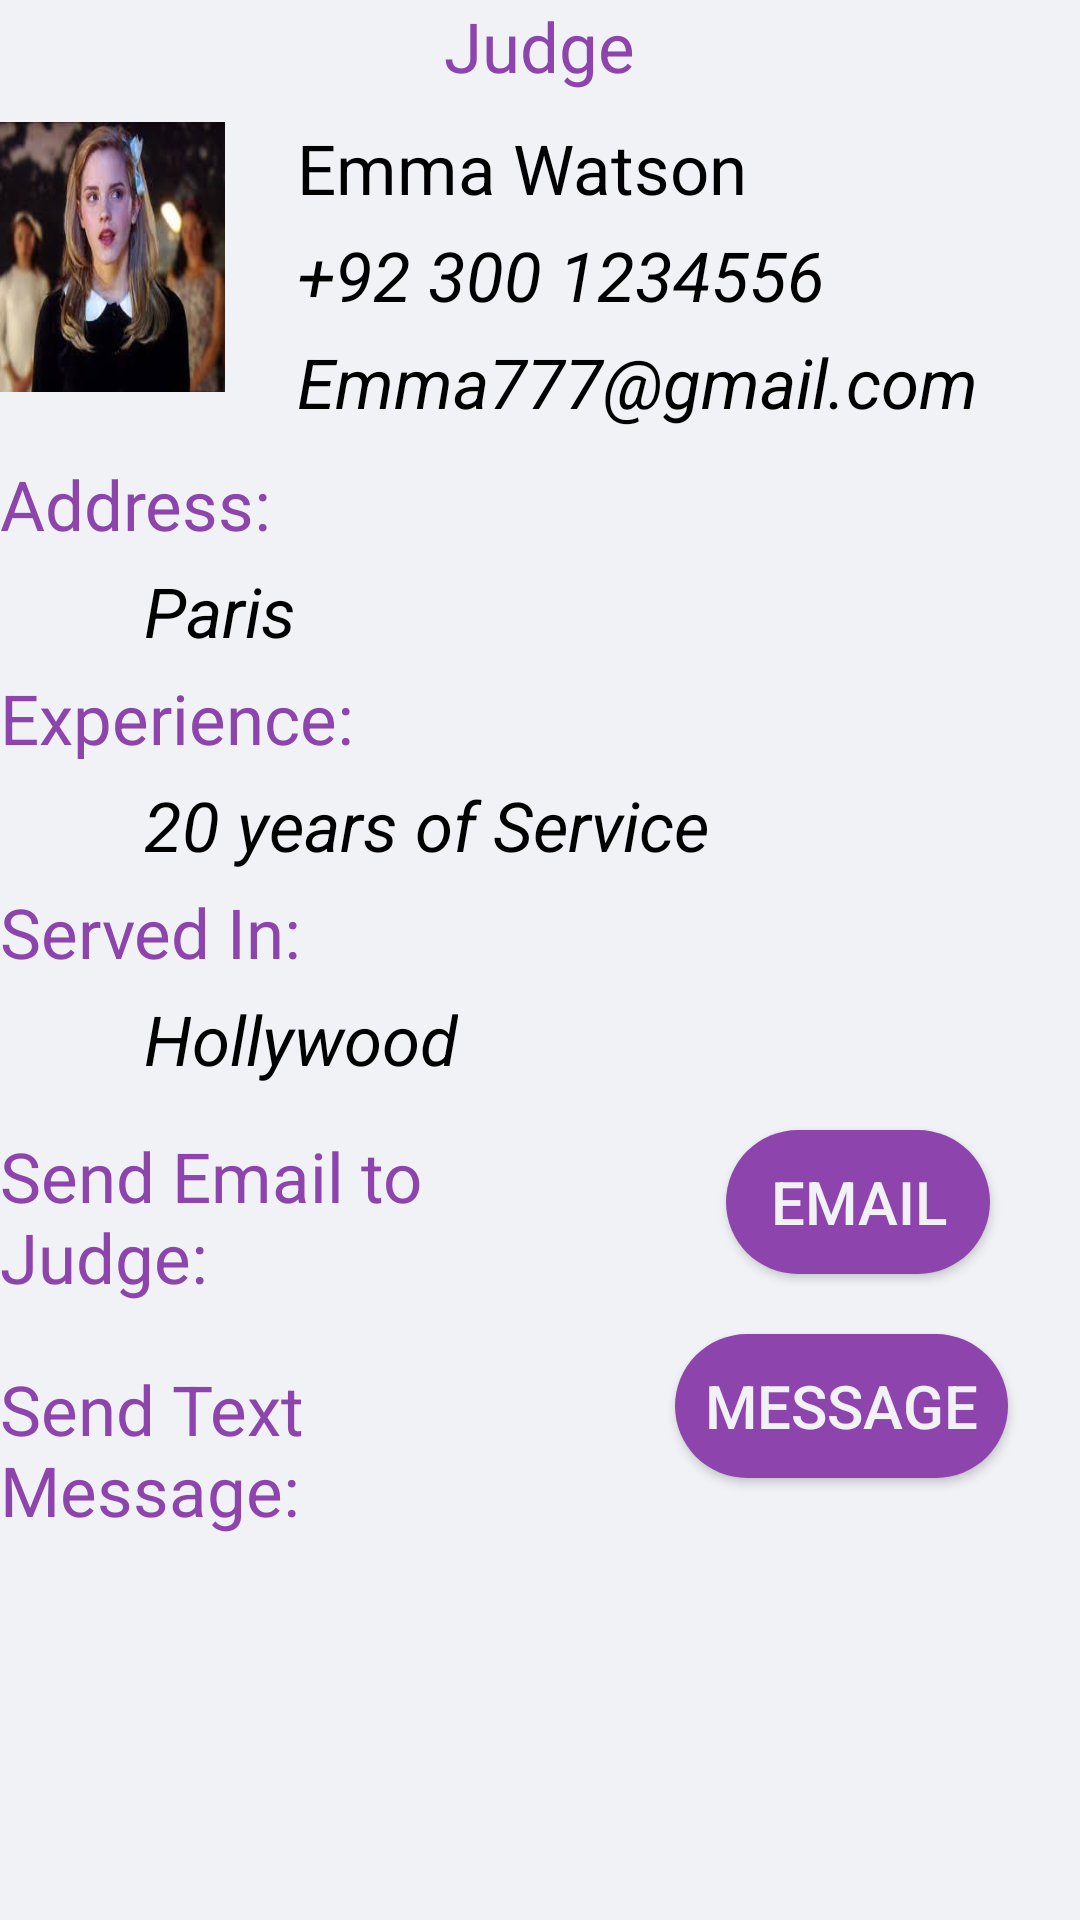

Point at icon controls on the screen. Image size 1080×1920, points as [x,y].
lawyerpic demo: [112,257]
